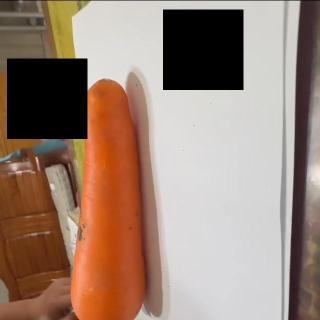carrot: (70, 76, 146, 320)
